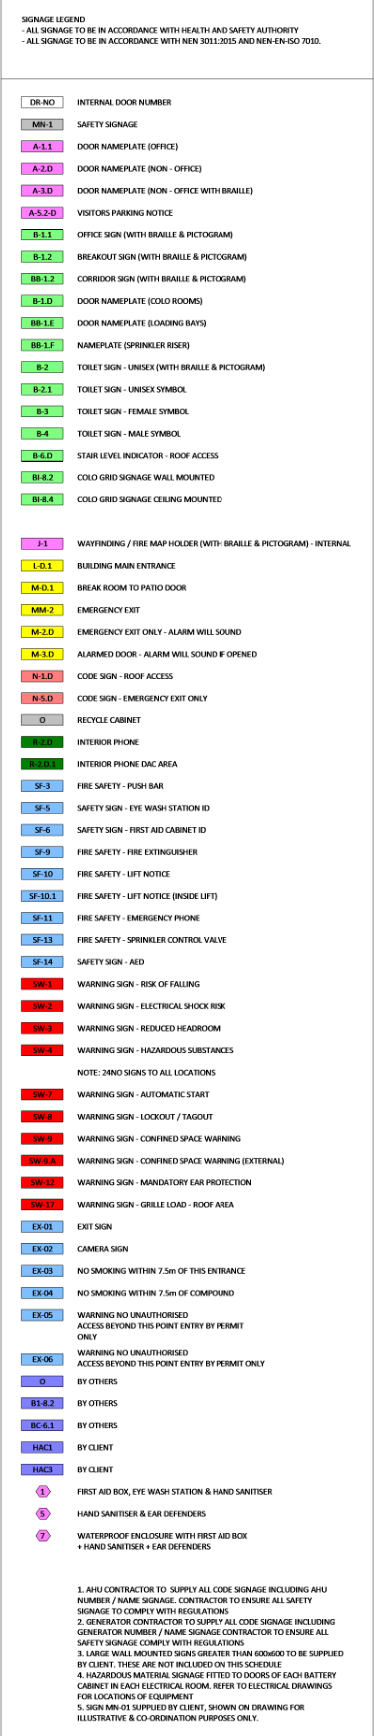hatch: (19, 1304, 69, 1326), (15, 358, 70, 378), (18, 179, 67, 200), (17, 1082, 66, 1103), (15, 115, 70, 134), (14, 137, 71, 155), (15, 247, 69, 266), (14, 534, 67, 552), (14, 820, 67, 839), (15, 996, 69, 1015), (17, 577, 66, 597), (15, 424, 67, 443), (14, 468, 66, 487), (14, 489, 66, 508), (15, 732, 67, 751), (18, 1393, 66, 1413), (14, 91, 69, 108), (15, 754, 70, 772), (13, 622, 66, 640), (13, 689, 66, 706), (15, 711, 69, 728), (15, 952, 69, 970), (14, 1019, 67, 1036), (17, 1217, 66, 1236), (12, 1262, 69, 1279), (17, 1151, 69, 1169), (15, 1195, 67, 1212), (17, 1415, 65, 1434), (18, 1174, 69, 1191), (14, 668, 69, 684), (18, 158, 65, 177), (18, 334, 65, 353), (18, 865, 65, 883), (15, 601, 69, 618), (17, 844, 70, 860), (15, 1438, 65, 1456), (19, 204, 65, 223), (15, 291, 64, 309), (19, 313, 67, 331), (17, 447, 65, 465), (18, 1107, 66, 1125), (18, 1372, 66, 1389), (18, 1461, 66, 1479), (17, 888, 67, 905), (18, 556, 65, 573), (18, 798, 65, 816), (19, 931, 66, 949), (18, 776, 64, 794), (14, 975, 67, 991), (18, 1041, 64, 1058), (18, 1129, 64, 1147), (15, 1284, 69, 1300), (18, 1351, 64, 1368), (17, 909, 69, 924), (18, 382, 65, 399), (18, 270, 69, 286), (15, 405, 67, 420), (15, 647, 67, 661), (18, 1242, 65, 1258), (17, 228, 67, 242), (32, 1525, 58, 1547), (30, 1482, 55, 1502), (31, 1503, 54, 1521)
label: (73, 1304, 247, 1341), (71, 533, 356, 550), (73, 1527, 254, 1554), (71, 1345, 274, 1368), (71, 1151, 287, 1169), (69, 1485, 283, 1502), (72, 182, 260, 200), (71, 1040, 238, 1061), (73, 359, 270, 376), (73, 269, 253, 288), (72, 996, 229, 1016), (72, 1174, 257, 1190), (71, 1129, 248, 1146), (72, 1262, 249, 1279), (73, 1282, 239, 1300), (70, 446, 224, 465), (73, 226, 235, 244), (72, 647, 260, 661), (74, 624, 247, 640), (72, 248, 256, 262), (71, 159, 209, 178), (73, 841, 204, 861), (70, 887, 225, 903), (71, 1196, 237, 1211), (71, 313, 216, 331), (71, 820, 216, 838), (71, 932, 235, 948), (71, 469, 222, 486), (71, 798, 220, 815), (71, 492, 229, 507), (71, 690, 217, 706), (71, 1506, 216, 1522), (71, 292, 209, 309), (72, 1086, 216, 1102), (71, 974, 201, 991), (71, 402, 198, 418), (75, 380, 194, 397), (71, 1021, 228, 1034), (70, 337, 197, 352), (71, 425, 186, 442), (71, 754, 186, 771), (76, 137, 177, 156), (71, 866, 184, 882), (73, 93, 177, 111), (71, 776, 175, 794), (71, 1110, 218, 1123), (71, 205, 177, 221), (73, 910, 206, 923), (75, 558, 179, 575), (72, 668, 180, 683), (73, 581, 194, 595), (71, 601, 147, 618), (71, 712, 147, 728), (72, 733, 148, 748), (74, 115, 144, 132), (72, 953, 150, 968), (72, 1216, 123, 1236), (73, 1240, 129, 1258), (70, 1416, 127, 1433), (72, 1394, 123, 1412), (70, 1463, 121, 1479), (72, 1374, 125, 1389), (72, 1437, 117, 1454)
